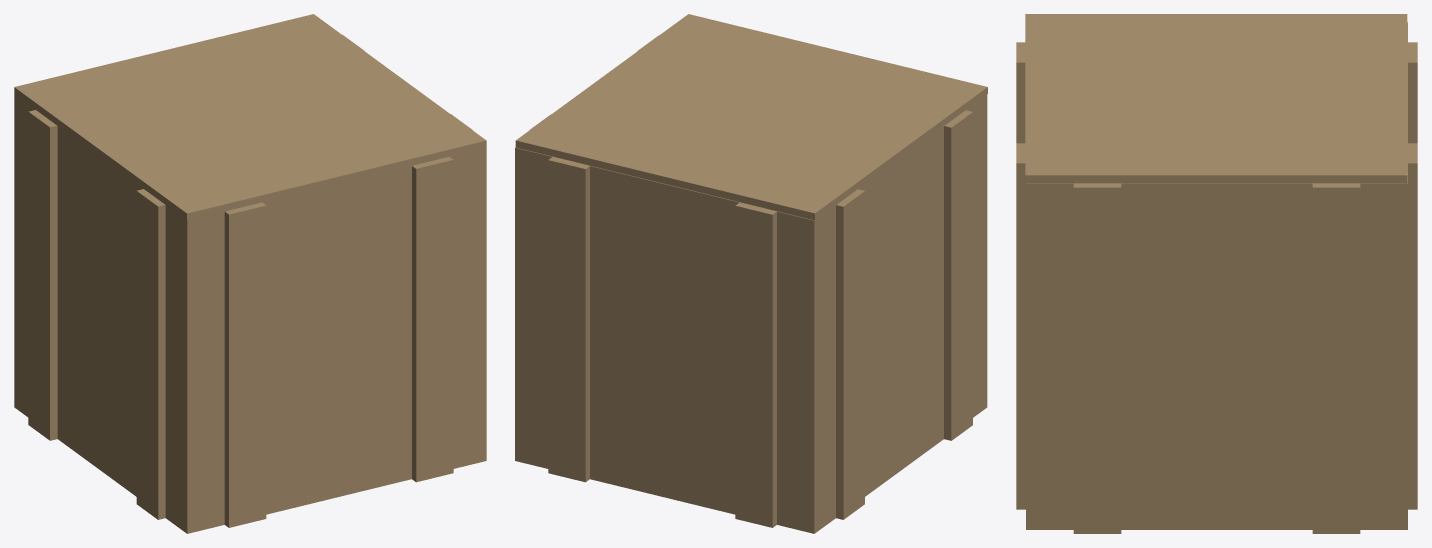
File: Crate.fbx
3 views of the same model, side by side, from view 1: azimuth 30°, elevation 25°; view 2: azimuth 150°, elevation 25°; view 3: azimuth 270°, elevation 25° (orthographic). The views are drawn at different scales.
Visible parts, largest first — view 1: Container, Lid; view 2: Container, Lid; view 3: Container, Lid.
Boxes of the visible parts, <box> form: Container: <box>14,35,486,533</box>; Lid: <box>14,14,486,220</box>; Container: <box>515,35,987,533</box>; Lid: <box>515,14,987,220</box>; Container: <box>1016,22,1417,533</box>; Lid: <box>1025,14,1407,183</box>.
Bounding box in the file's own units: 210 × 205 × 210.
